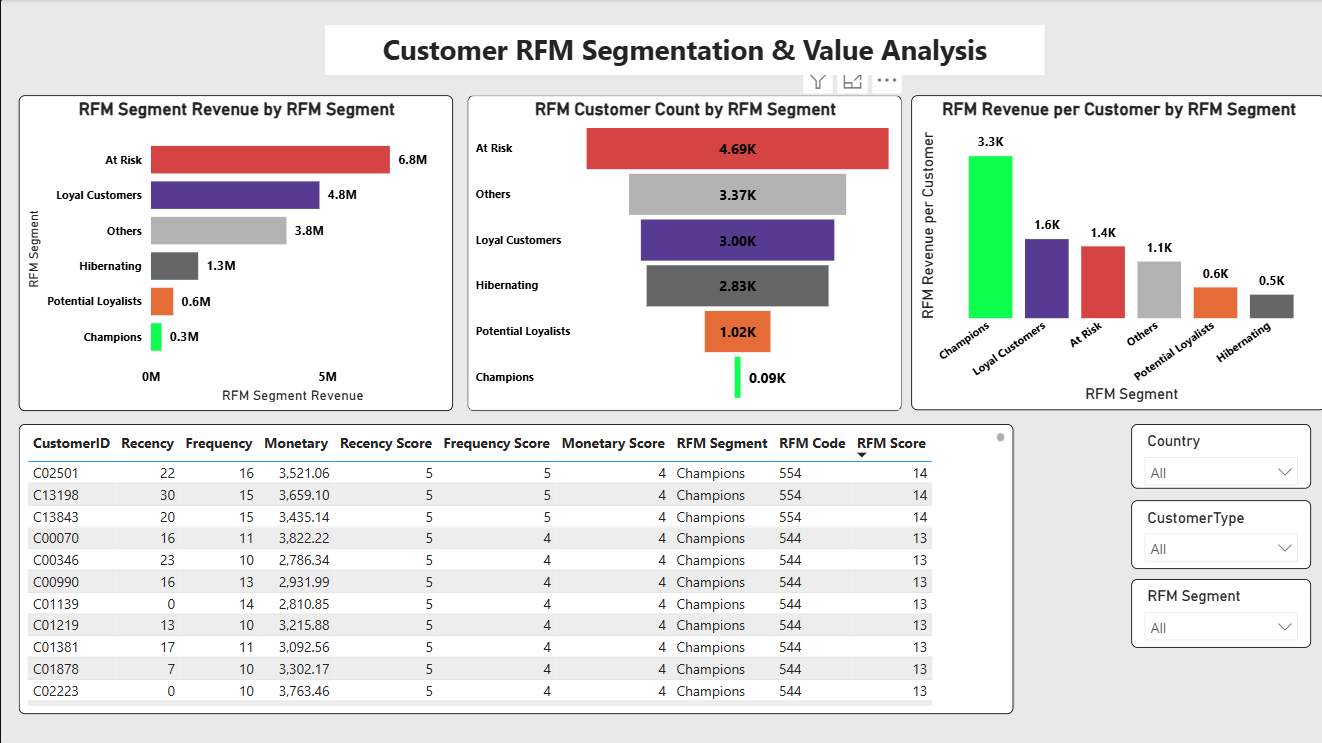

The dashboard page shown, as its layout file describes it:
{"tool":"powerbi","page":{"name":"RFM","canvas":[1280,720],"ordinal":3},"visuals":[{"type":"tableEx","fields":{"Values":["RFMSummary.CustomerID","Sum(RFMSummary.Recency)","Sum(RFMSummary.Frequency)","Sum(RFMSummary.Monetary)","Sum(RFMSummary.Recency Score)","Sum(RFMSummary.Frequency Score)","Sum(RFMSummary.Monetary Score)","RFMSummary.RFM Segment","RFMSummary.RFM Code","Sum(RFMSummary.RFM Score)"]},"box":[18.1,410.2,960.3,279.9],"z":0},{"type":"clusteredBarChart","fields":{"Category":["RFMSummary.RFM Segment"],"Y":["RFMSummary.RFM Segment Revenue"]},"box":[18.3,92.9,419.4,304.5],"z":1000},{"type":"funnel","fields":{"Category":["RFMSummary.RFM Segment"],"Y":["RFMSummary.RFM Customer Count"]},"box":[451.2,92.9,419.4,304.5],"z":2000},{"type":"clusteredColumnChart","fields":{"Category":["RFMSummary.RFM Segment"],"Y":["RFMSummary.RFM Revenue per Customer"]},"box":[880,93,400,304],"z":3000},{"type":"textbox","box":[314.3,25.7,694.6,47.7],"z":4000},{"type":"slicer","fields":{"Values":["DimCustomer.Country"]},"box":[1092,409.6,173.6,62.4],"z":5000},{"type":"slicer","fields":{"Values":["DimCustomer.CustomerType"]},"box":[1092,484.2,173.6,66],"z":6000},{"type":"slicer","fields":{"Values":["RFMSummary.RFM Segment"]},"box":[1092,560.1,173.6,66],"z":7000}]}

Visuals, with their boxes in screenshot pixels (x1, y1, x2, y2), scaled from the page's 1280x720 canvas onto the 1322x743 screenshot:
tableEx - RFMSummary.CustomerID x Sum(RFMSummary.Recency): box(19, 423, 1011, 712)
clusteredBarChart - RFMSummary.RFM Segment x RFMSummary.RFM Segment Revenue: box(19, 96, 452, 410)
funnel - RFMSummary.RFM Segment x RFMSummary.RFM Customer Count: box(466, 96, 899, 410)
clusteredColumnChart - RFMSummary.RFM Segment x RFMSummary.RFM Revenue per Customer: box(909, 96, 1321, 410)
textbox: box(325, 27, 1042, 76)
slicer - DimCustomer.Country: box(1128, 423, 1307, 487)
slicer - DimCustomer.CustomerType: box(1128, 500, 1307, 568)
slicer - RFMSummary.RFM Segment: box(1128, 578, 1307, 646)
